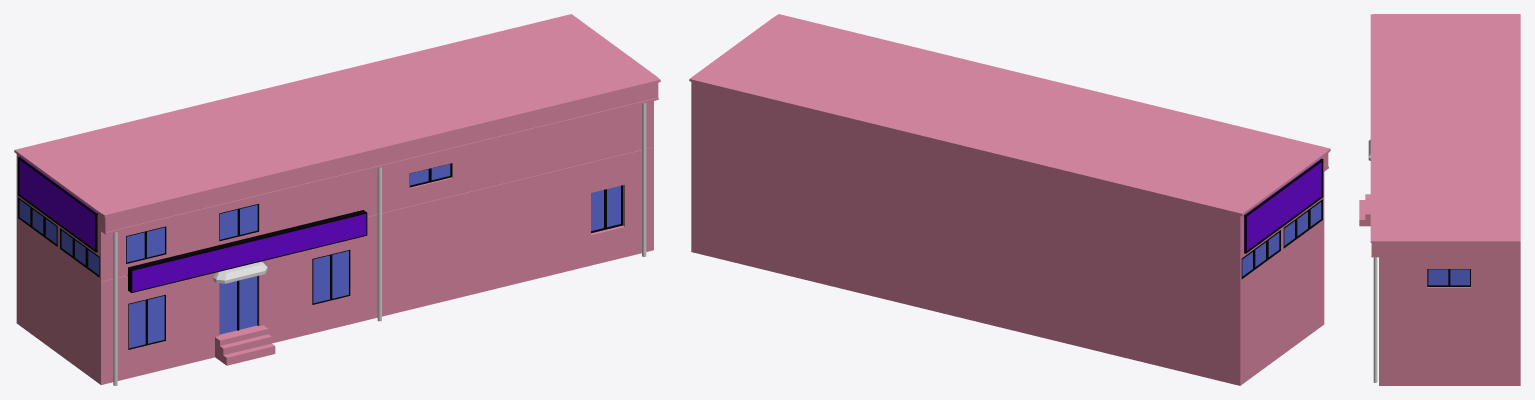
Rendered from sun_hidakaya.fbx.
3 views of the same model, side by side, from view 1: azimuth 30°, elevation 25°; view 2: azimuth 150°, elevation 25°; view 3: azimuth 270°, elevation 25° (orthographic). The views are drawn at different scales.
Visible parts, largest first — view 1: 立方体.009, 立方体.011, 立方体.015, 円柱, 立方体.014, 立方体.013; view 2: 立方体.009, 立方体.015; view 3: 立方体.009, 円柱, 立方体.014.
Part boxes in pixels (bbox=[...]): 立方体.009: bbox=[14, 14, 660, 384]; 立方体.011: bbox=[127, 210, 367, 292]; 立方体.015: bbox=[18, 156, 97, 252]; 円柱: bbox=[113, 103, 646, 385]; 立方体.014: bbox=[215, 325, 275, 365]; 立方体.013: bbox=[213, 261, 267, 283]; 立方体.009: bbox=[689, 14, 1330, 385]; 立方体.015: bbox=[1244, 158, 1323, 253]; 立方体.009: bbox=[1370, 14, 1520, 385]; 円柱: bbox=[1373, 257, 1377, 382]; 立方体.014: bbox=[1359, 194, 1370, 226].
Size of the model in its own units: 2300 by 691 by 688.
